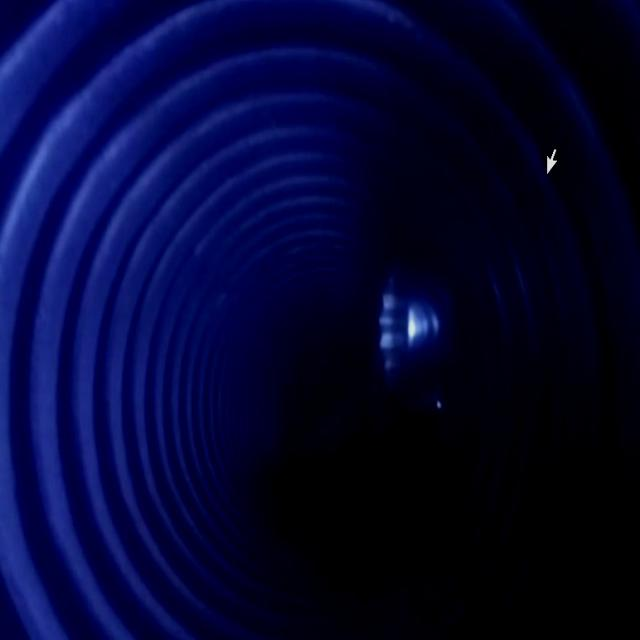metal piece: (373, 259, 461, 423)
